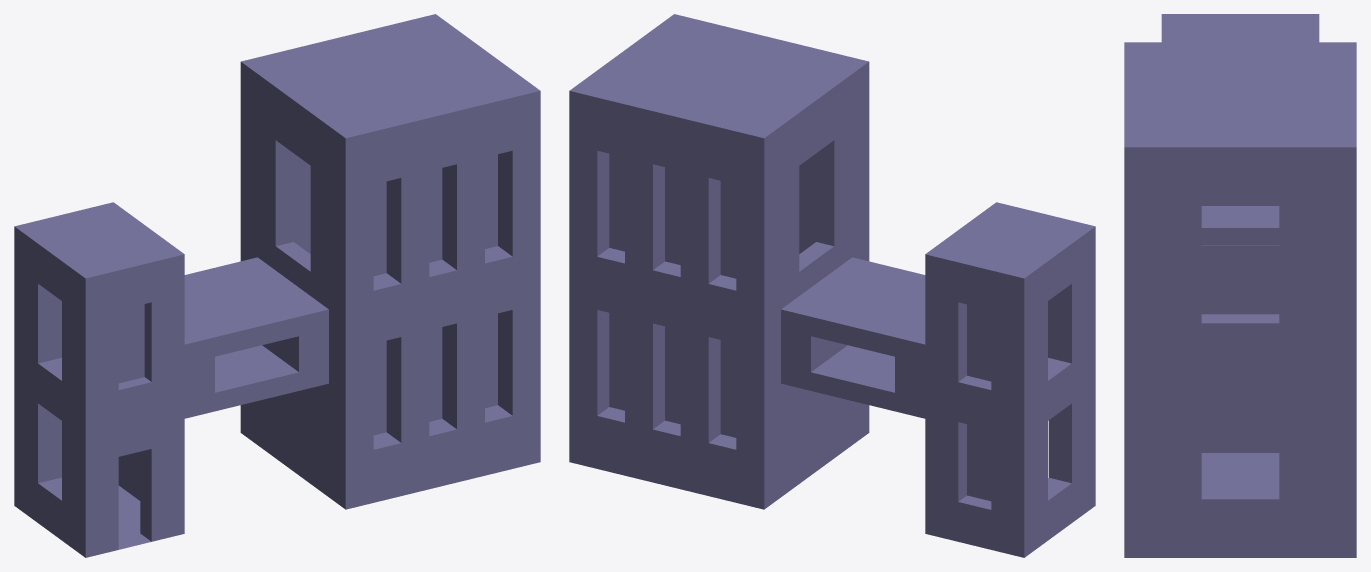
Rendered from square_house1.fbx.
3 views of the same model, side by side, from view 1: azimuth 30°, elevation 25°; view 2: azimuth 150°, elevation 25°; view 3: azimuth 270°, elevation 25° (orthographic). The views are drawn at different scales.
Parts seen in each view (by area): view 1: pCube7; view 2: pCube7; view 3: pCube7.
Boxes of the visible parts, bbox=[...] form: pCube7: bbox=[14, 14, 540, 557]; pCube7: bbox=[569, 14, 1095, 557]; pCube7: bbox=[1124, 14, 1356, 557].
Size of the model in its own units: 7.06 by 5.74 by 2.93.
